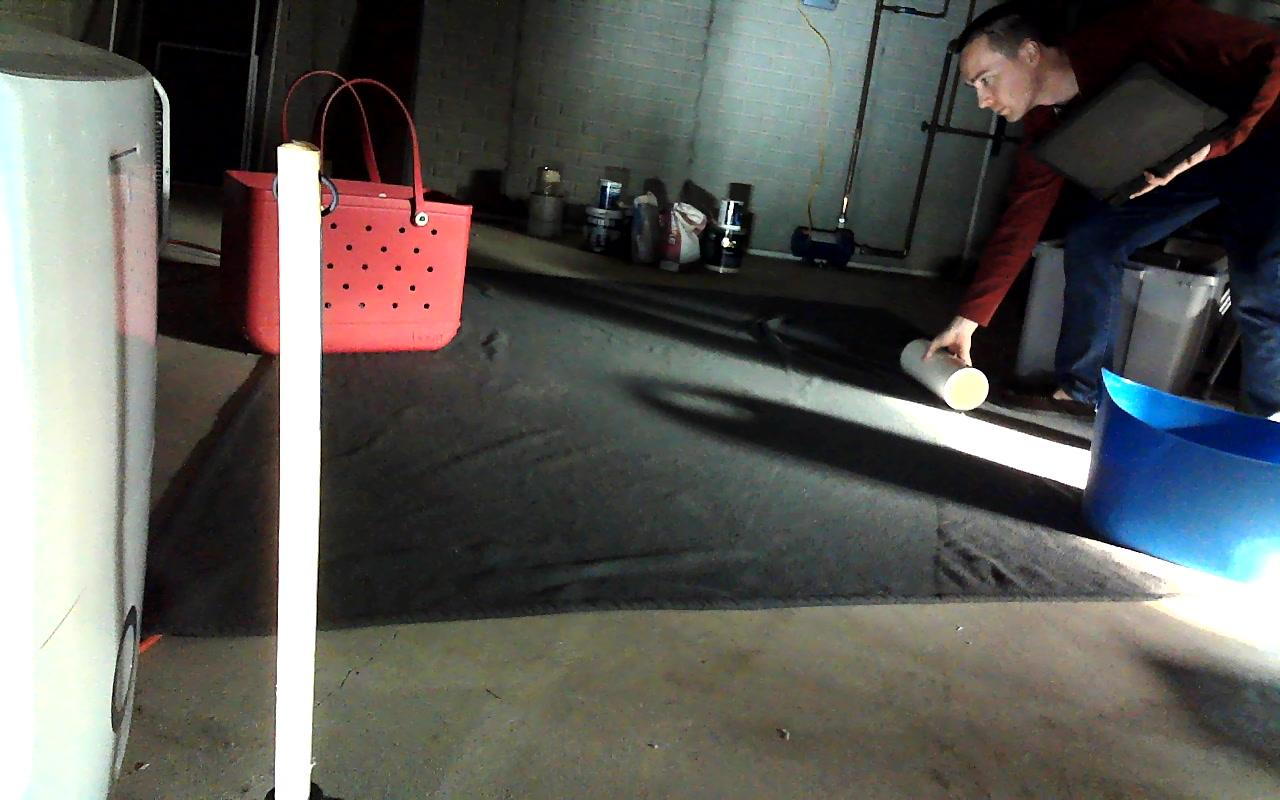coral: (900, 340, 988, 409)
